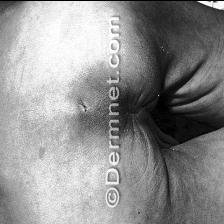Unclassified: (133, 175, 197, 224), (141, 0, 184, 58), (77, 62, 99, 137)
